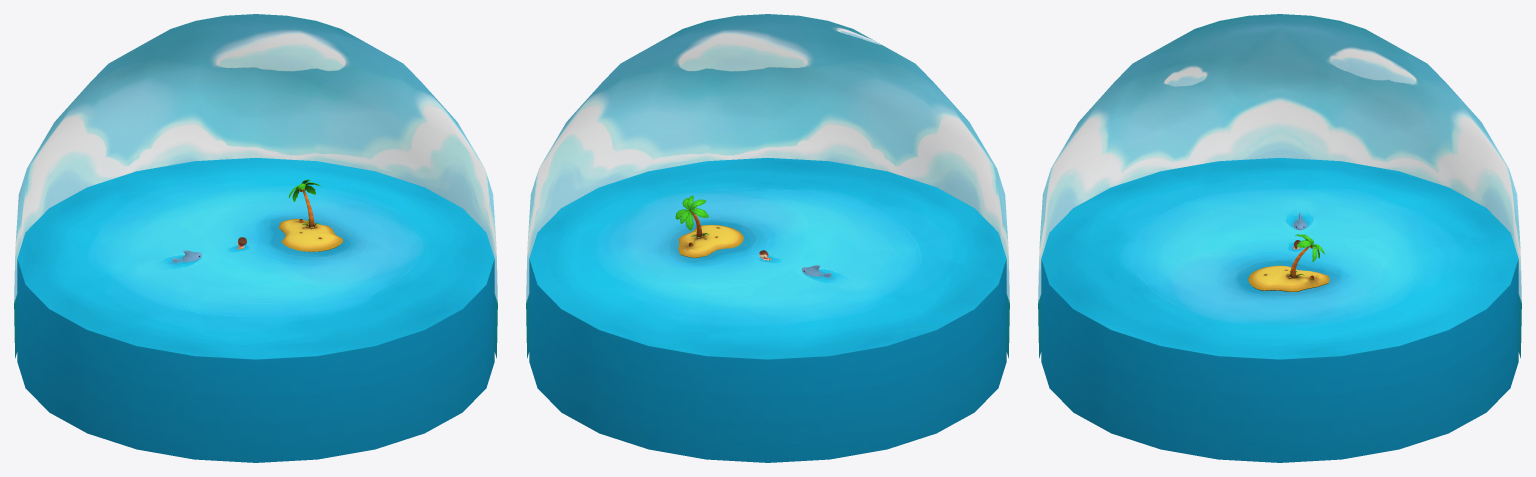
The picture shows the model from 3 angles, left to right: view 1: azimuth 30°, elevation 25°; view 2: azimuth 150°, elevation 25°; view 3: azimuth 270°, elevation 25°; orthographic projection.
Visible parts, largest first — view 1: water, skybox, island; view 2: water, skybox, island; view 3: water, skybox, island.
Part boxes in pixels (x1,y1,x2,y2): water: (17, 158, 494, 462); skybox: (14, 14, 497, 358); island: (278, 218, 343, 251); water: (529, 158, 1006, 462); skybox: (526, 14, 1009, 358); island: (678, 225, 743, 258); water: (1041, 158, 1518, 462); skybox: (1038, 14, 1521, 358); island: (1248, 265, 1329, 291).
Size of the model in its own units: 4.28 by 3.19 by 4.28.
Materials: 5 (5 with a texture image).
